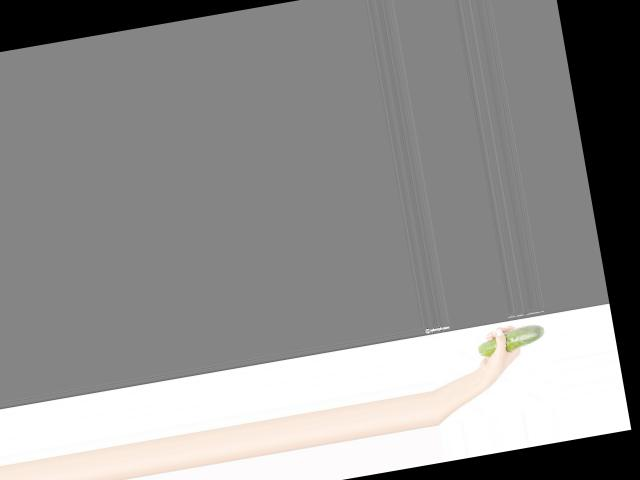cucumber: (476, 322, 547, 357)
